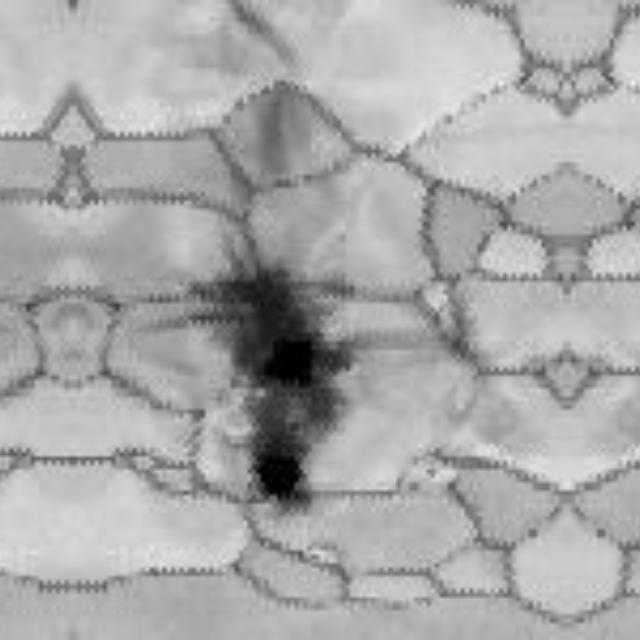good_void: (171, 205, 398, 527)
